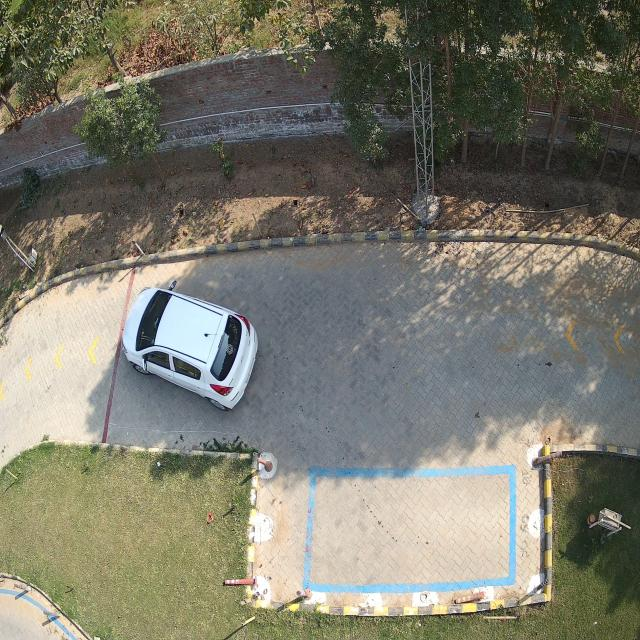car: (120, 287, 258, 413)
